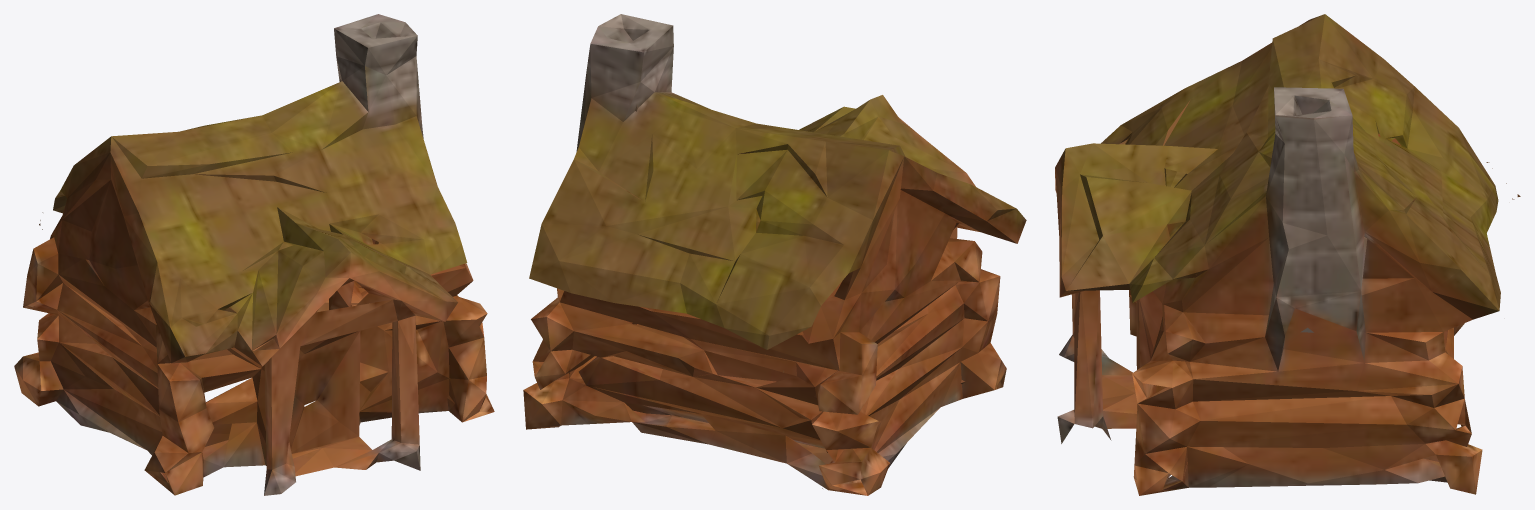
The model's file is cottage-log.glb.
3 views of the same model, side by side, from view 1: azimuth 30°, elevation 25°; view 2: azimuth 150°, elevation 25°; view 3: azimuth 270°, elevation 25° (orthographic). The views are drawn at different scales.
Parts seen in each view (by area): view 1: cottage-log; view 2: cottage-log; view 3: cottage-log.
Boxes of the visible parts, bbox=[...] form: cottage-log: bbox=[14, 14, 494, 495]; cottage-log: bbox=[523, 14, 1026, 495]; cottage-log: bbox=[1055, 14, 1520, 495].
Bounding box in the file's own units: 5.62 × 5.46 × 5.99.
1 material, 1 textured.
